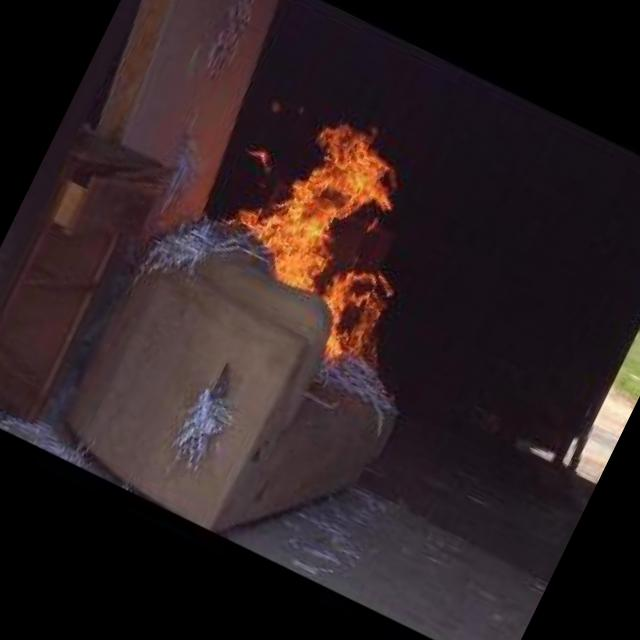fire: (210, 81, 417, 310), (329, 245, 394, 384)
